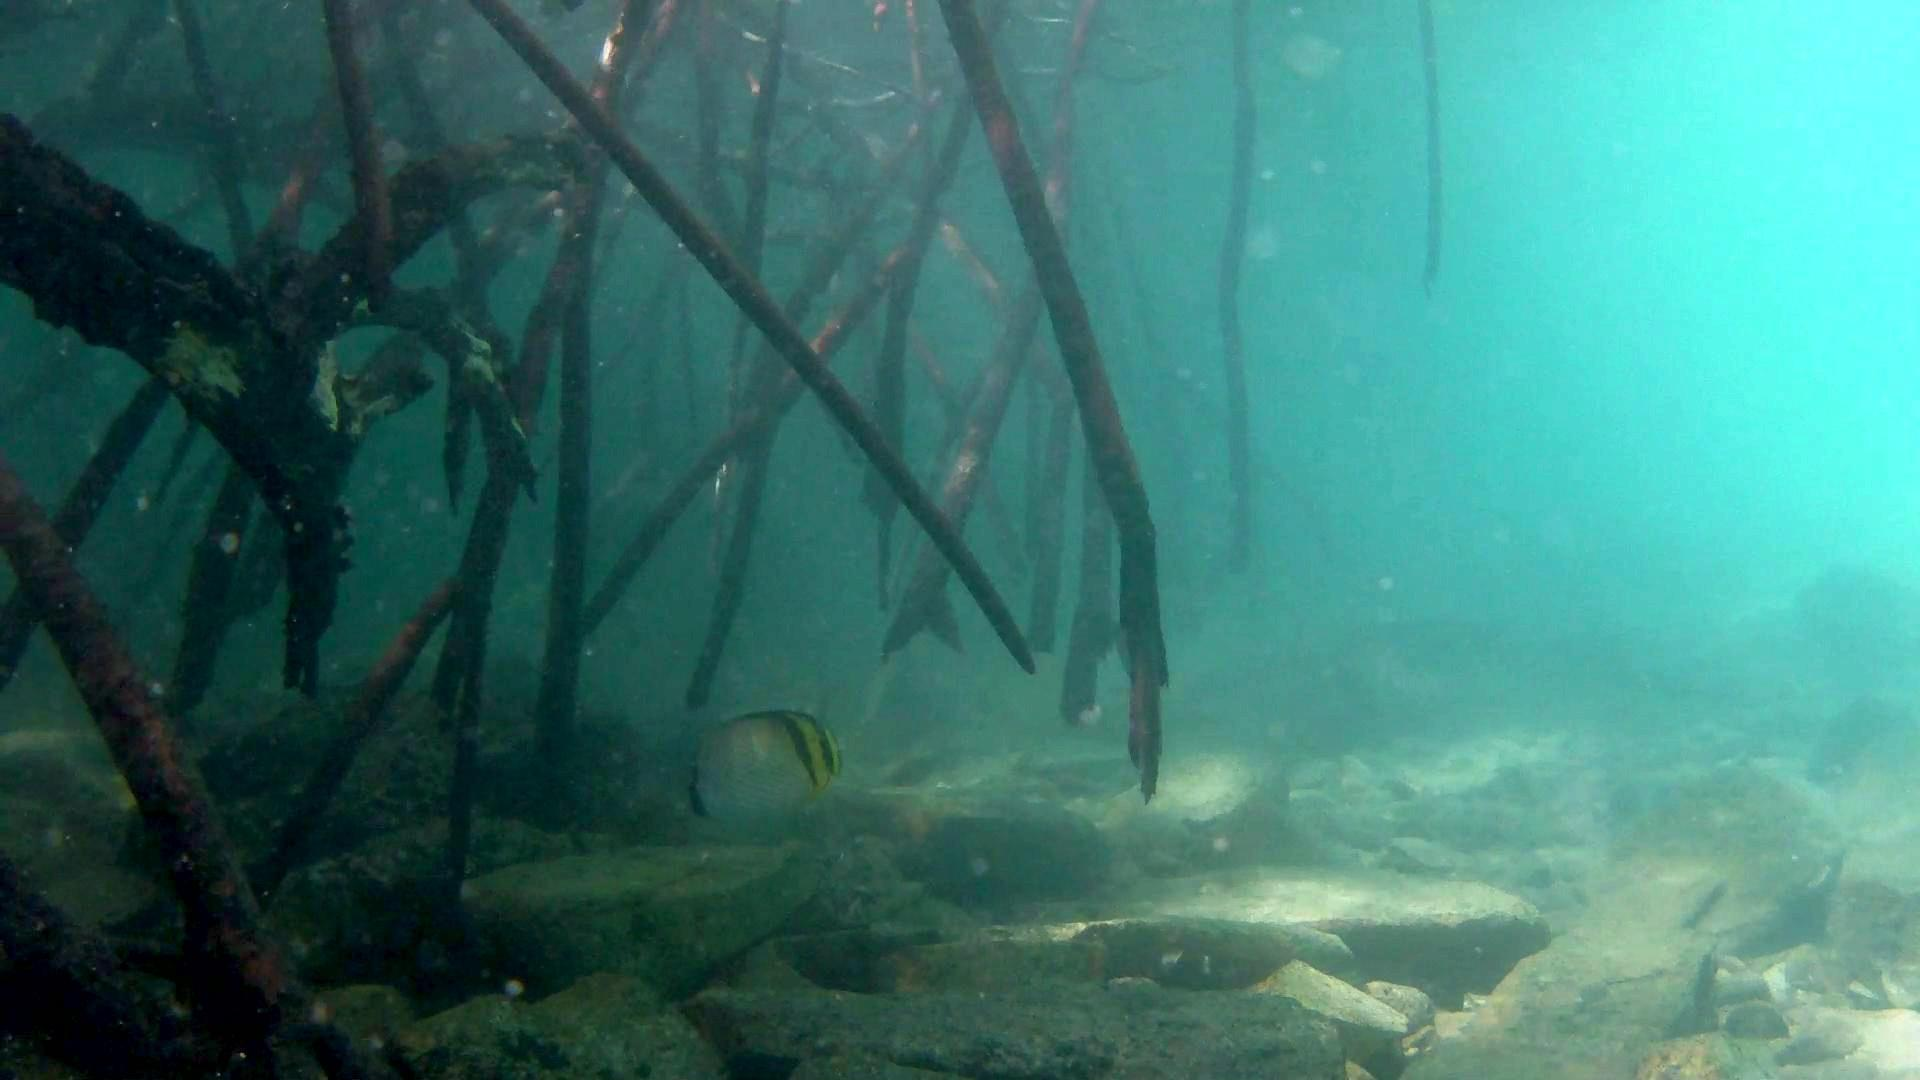chaetodon vagabundus: (673, 707, 844, 828)
